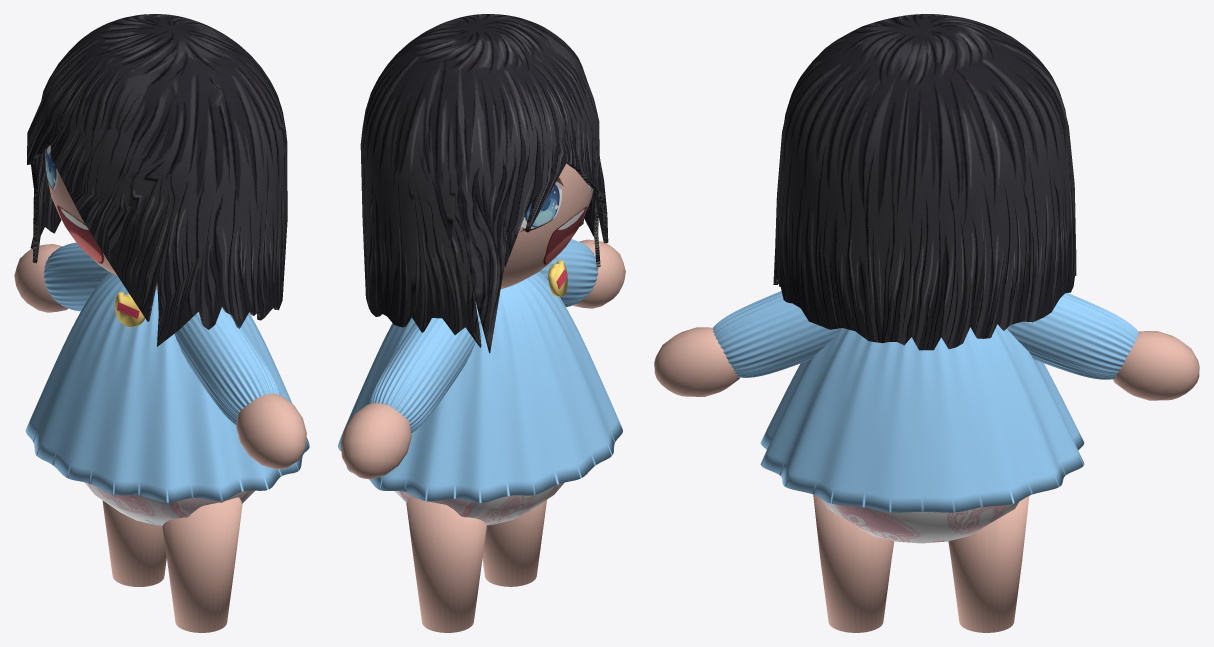
Rendered from diaperderedoll.glb.
3 views of the same model, side by side, from view 1: azimuth 30°, elevation 25°; view 2: azimuth 150°, elevation 25°; view 3: azimuth 270°, elevation 25° (orthographic). The views are drawn at different scales.
Parts seen in each view (by area): view 1: head.002, head.003, head.004, head, head.001, head.009; view 2: head.002, head.003, head.004, head.001, head, head.009; view 3: head.002, head.003, head.004, head.
Part boxes in pixels (x1=…): head.002: x1=27, y1=14, x2=287, y2=346; head.003: x1=25, y1=242, x2=309, y2=502; head.004: x1=14, y1=244, x2=306, y2=632; head: x1=84, y1=482, x2=254, y2=525; head.001: x1=45, y1=144, x2=157, y2=289; head.009: x1=114, y1=292, x2=145, y2=326; head.002: x1=360, y1=14, x2=608, y2=353; head.003: x1=338, y1=239, x2=622, y2=502; head.004: x1=340, y1=239, x2=625, y2=632; head.001: x1=500, y1=163, x2=593, y2=288; head: x1=395, y1=482, x2=564, y2=525; head.009: x1=548, y1=260, x2=567, y2=296; head.002: x1=773, y1=14, x2=1076, y2=350; head.003: x1=713, y1=291, x2=1138, y2=512; head.004: x1=654, y1=327, x2=1199, y2=632; head: x1=822, y1=499, x2=1018, y2=543.
Size of the model in its own units: 2.44 by 5.71 by 4.75.
7 materials, 3 textured.
